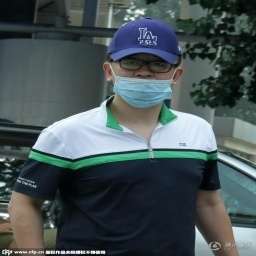incorrectlyWear: (102, 53, 183, 109)
